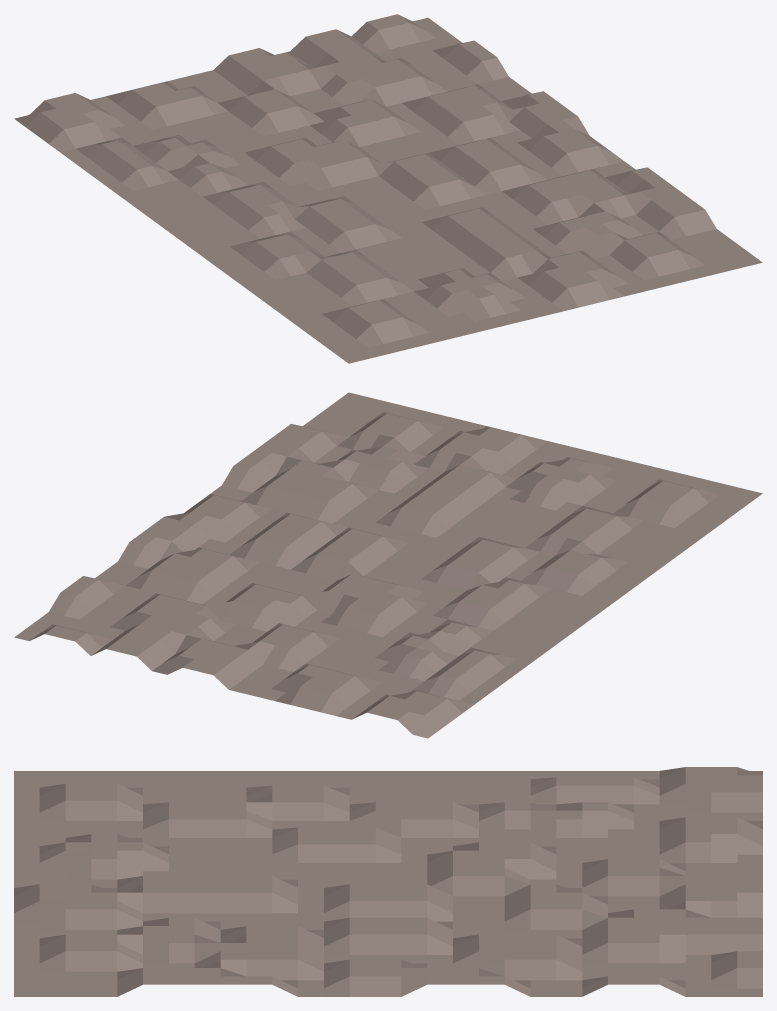
3 renders of one model, top to bottom at view 1: azimuth 30°, elevation 25°; view 2: azimuth 150°, elevation 25°; view 3: azimuth 270°, elevation 25°, orthographic. The views are drawn at different scales.
Parts seen in each view (by area): view 1: Z_1; view 2: Z_1; view 3: Z_1.
Boxes of the visible parts, left/top/right/bottom form: Z_1: left=14, top=14, right=762, bottom=363; Z_1: left=14, top=392, right=762, bottom=738; Z_1: left=14, top=767, right=762, bottom=996.
Bounding box in the file's own units: 16508 × 415 × 23111.
